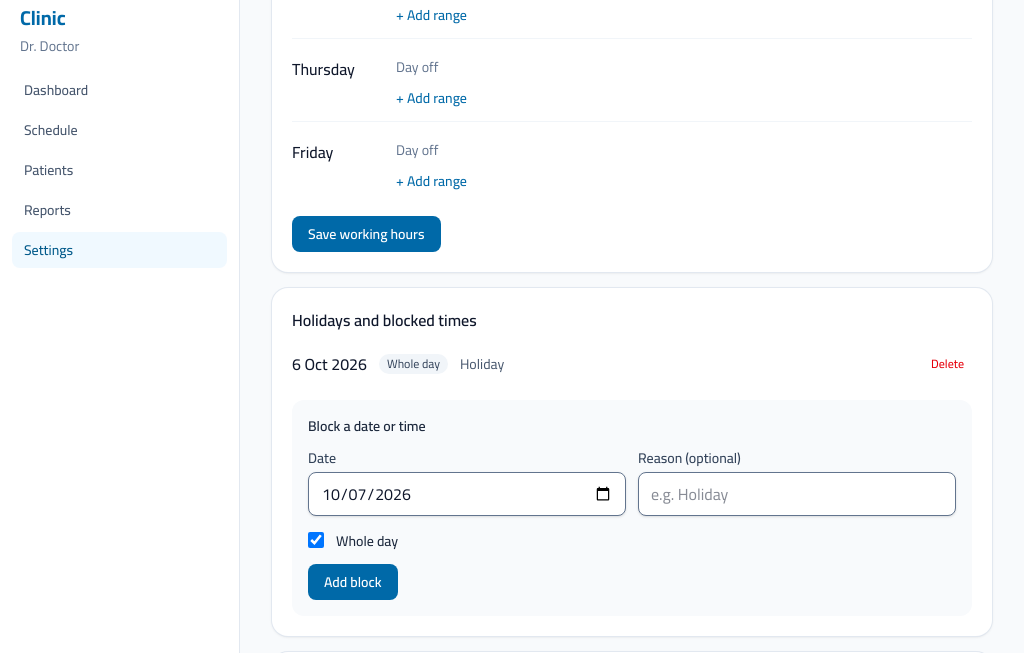
Test: Settings: blocked dates › deletes a block after confirmation
(page scrolled)
Click the button with aria-label "Delete block on 6 Oct 2026" at (948, 364), box [923, 352, 972, 376]
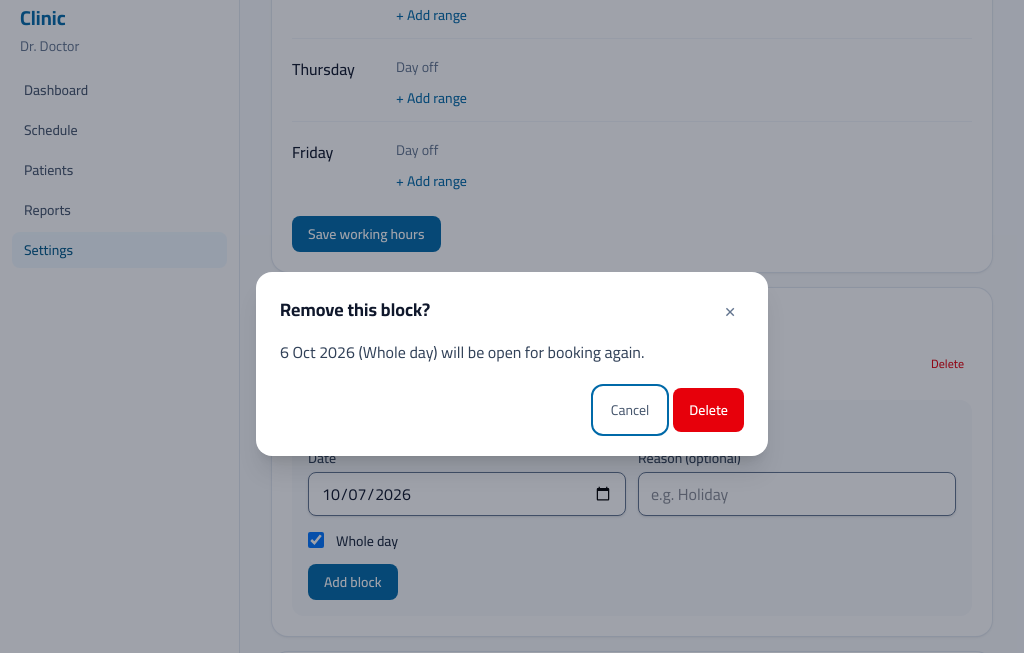
Check: the dialog "Remove this block?" shows "6 Oct 2026 (Whole day) will be open for booking again.", box [280, 337, 644, 367]
Click the button "Delete" at (709, 410), box [673, 388, 744, 432]
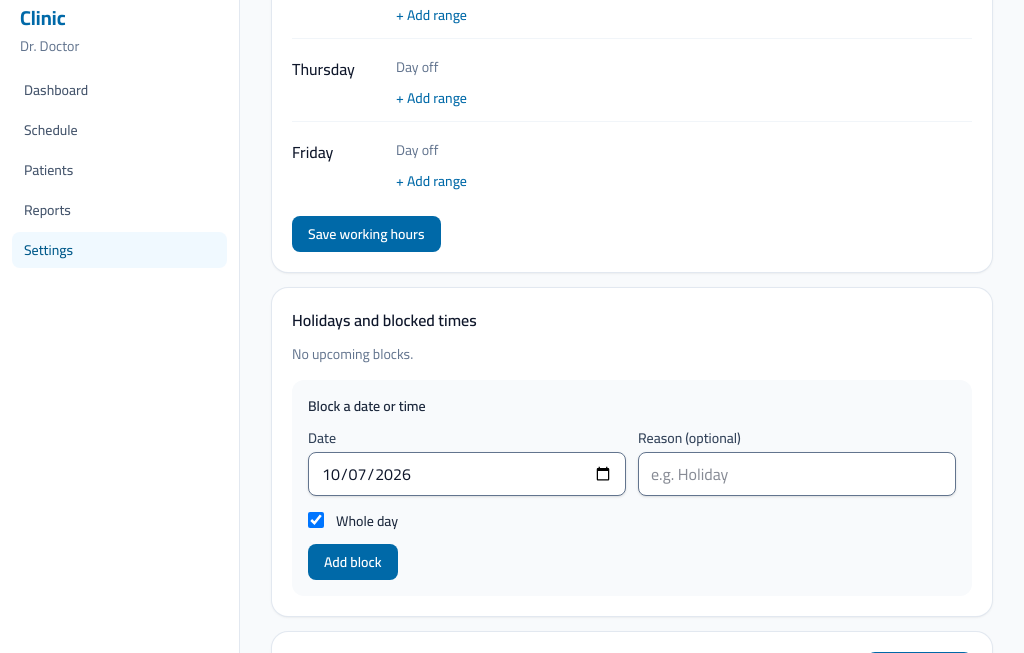
Check: the text "No upcoming blocks." is shown, box [292, 341, 413, 367]
